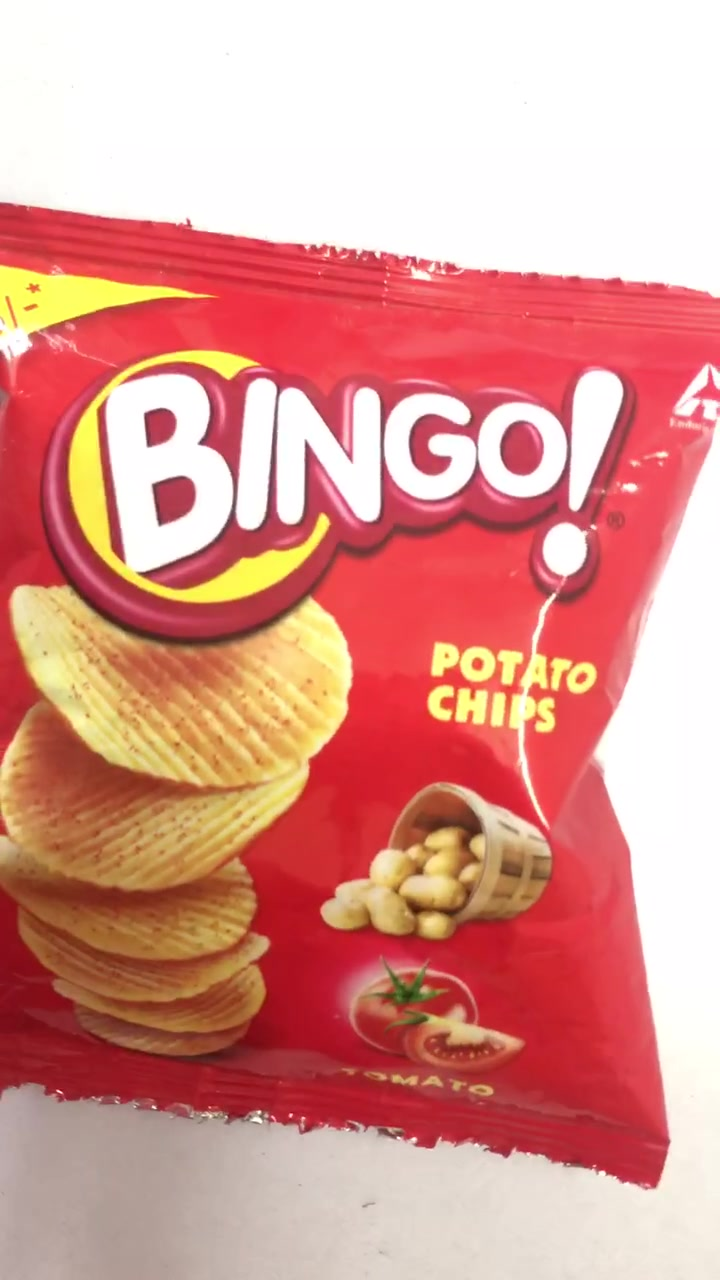Bingo: (21, 299, 635, 1099)
